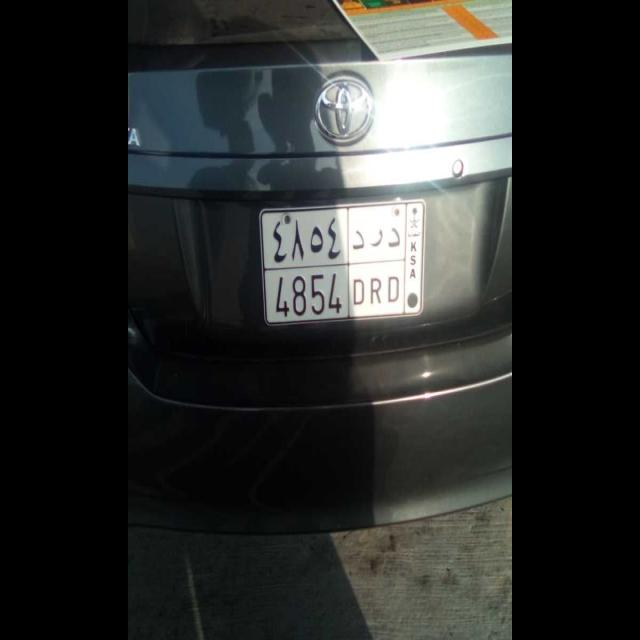license_plate: (266, 264, 406, 328)
